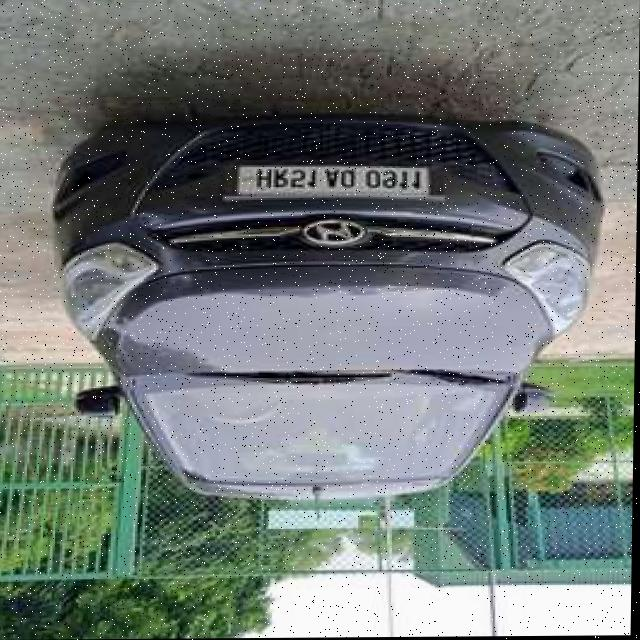plate: (238, 164, 432, 200)
